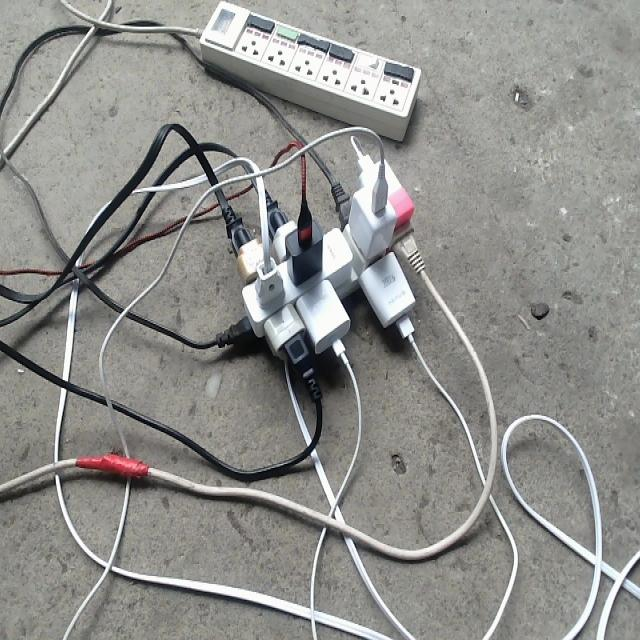-: (224, 149, 417, 375)
